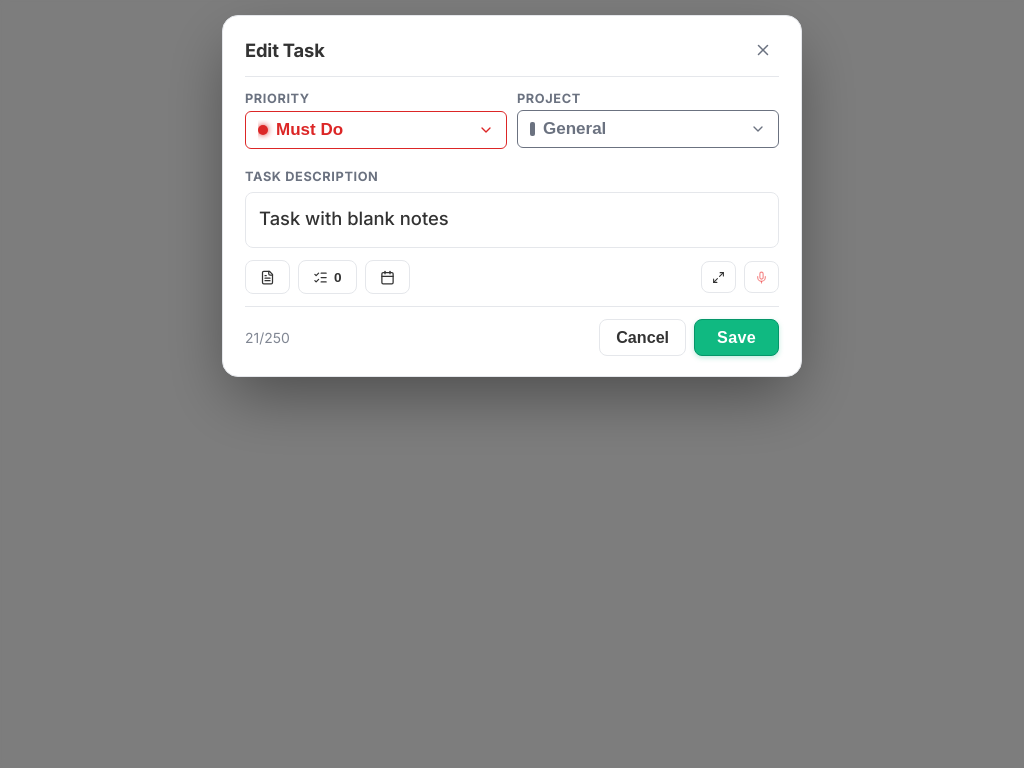
Test: EditModal › clears holding placeholder text in notes textarea when clicked or focused
// Open notes section
Click the button named "Notes" at x=268, y=277, box 245,260 -> 290,294
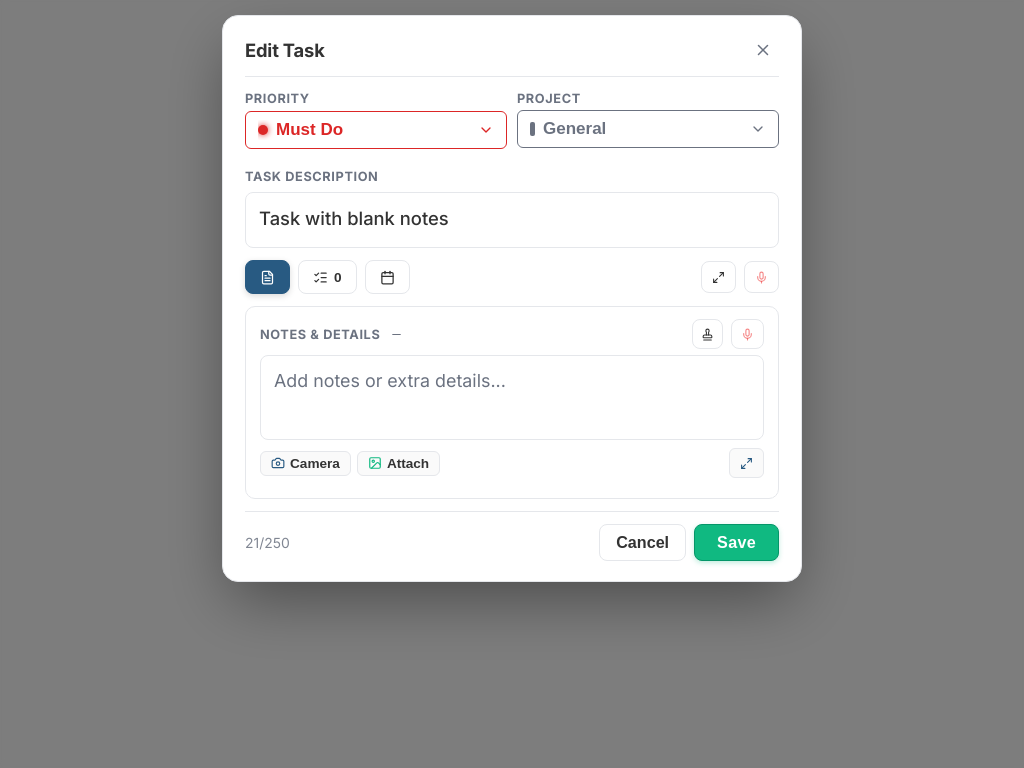
Now the text "Add notes or extra details..." is shown
// Click to enter editing mode
Click the text "Add notes or extra details..." at x=390, y=381, box 274,370 -> 506,391
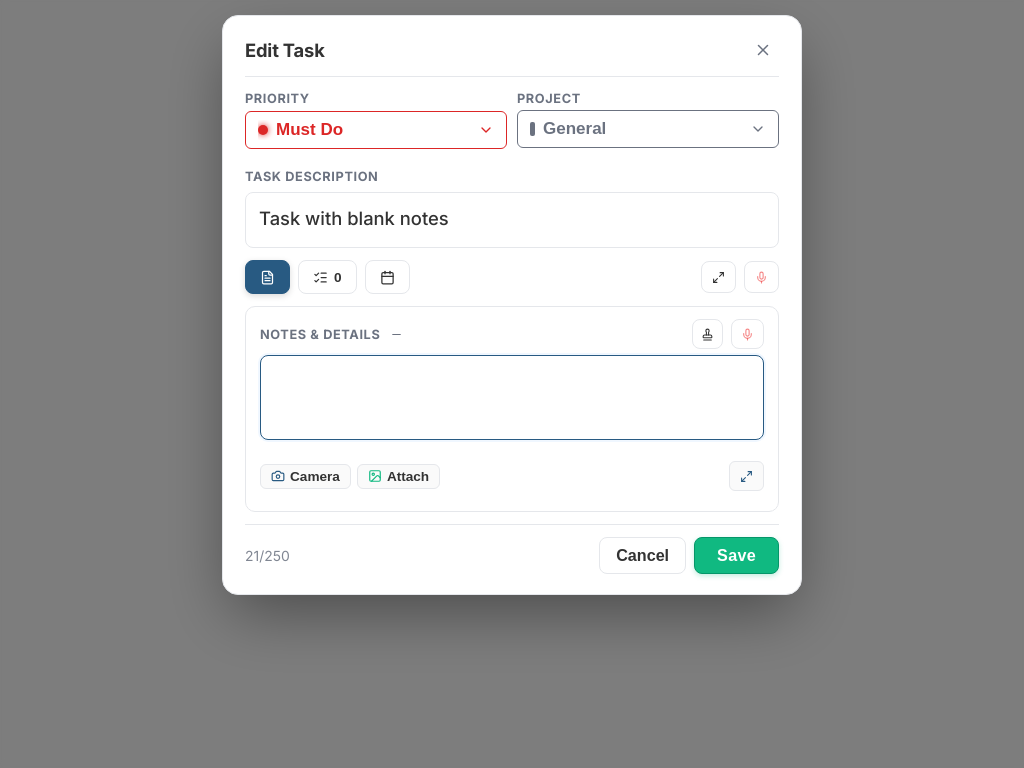
Now the text box is shown
// When blurred, returns to inactive display showing placeholder
Leave the text box, box 260,355 -> 764,440
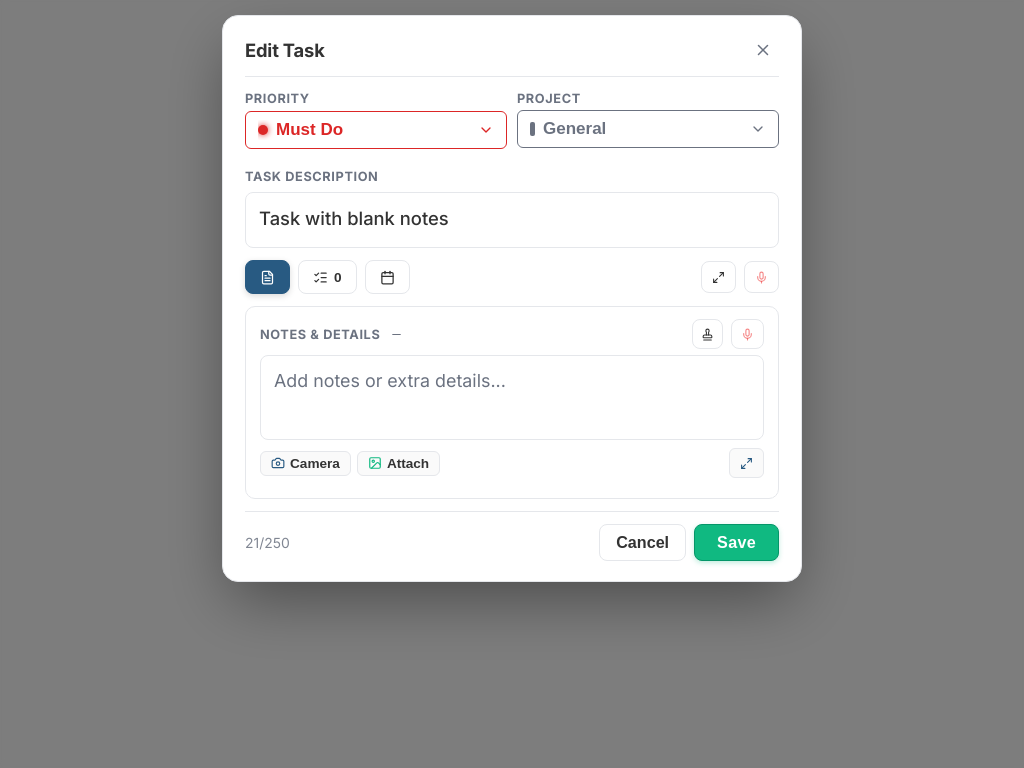
Now the text "Add notes or extra details..." is shown, box 274,370 -> 506,391
